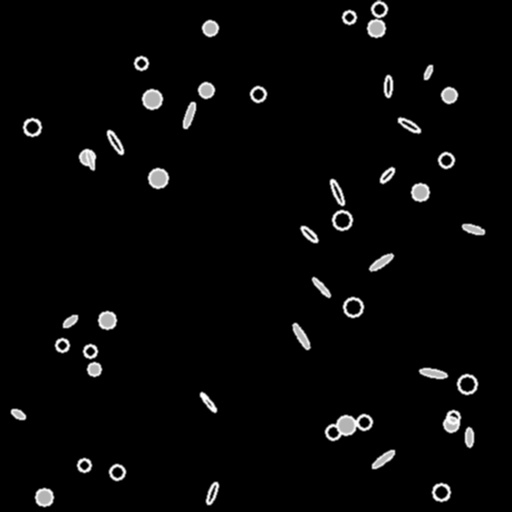pseudomonas: (291, 322, 311, 350), (105, 129, 125, 155), (371, 449, 395, 469), (369, 252, 393, 272), (396, 116, 422, 134), (329, 178, 345, 206), (311, 277, 331, 297), (199, 391, 217, 413), (182, 102, 196, 128), (299, 225, 319, 243), (205, 481, 219, 505), (420, 367, 446, 379), (379, 166, 395, 184), (461, 223, 485, 235), (62, 314, 78, 328), (85, 150, 95, 170), (10, 408, 26, 420), (423, 64, 433, 80), (385, 76, 391, 96), (466, 428, 472, 446)
synechocystis: (458, 375, 476, 393), (333, 211, 351, 229), (143, 90, 161, 108), (337, 416, 355, 434), (149, 169, 167, 187), (344, 298, 362, 316), (36, 489, 52, 505), (99, 312, 115, 328), (433, 484, 449, 500), (368, 20, 384, 36), (24, 119, 40, 135), (412, 184, 428, 200), (444, 417, 458, 431), (442, 88, 456, 102), (326, 425, 340, 439), (251, 87, 265, 101), (80, 150, 94, 164), (203, 21, 217, 35), (372, 2, 386, 16), (439, 153, 453, 167), (357, 415, 371, 429), (110, 465, 124, 479), (199, 83, 213, 97), (343, 11, 355, 23), (84, 345, 96, 357), (56, 339, 68, 351), (135, 57, 147, 69), (447, 411, 459, 423), (88, 363, 100, 375), (78, 459, 90, 471)
